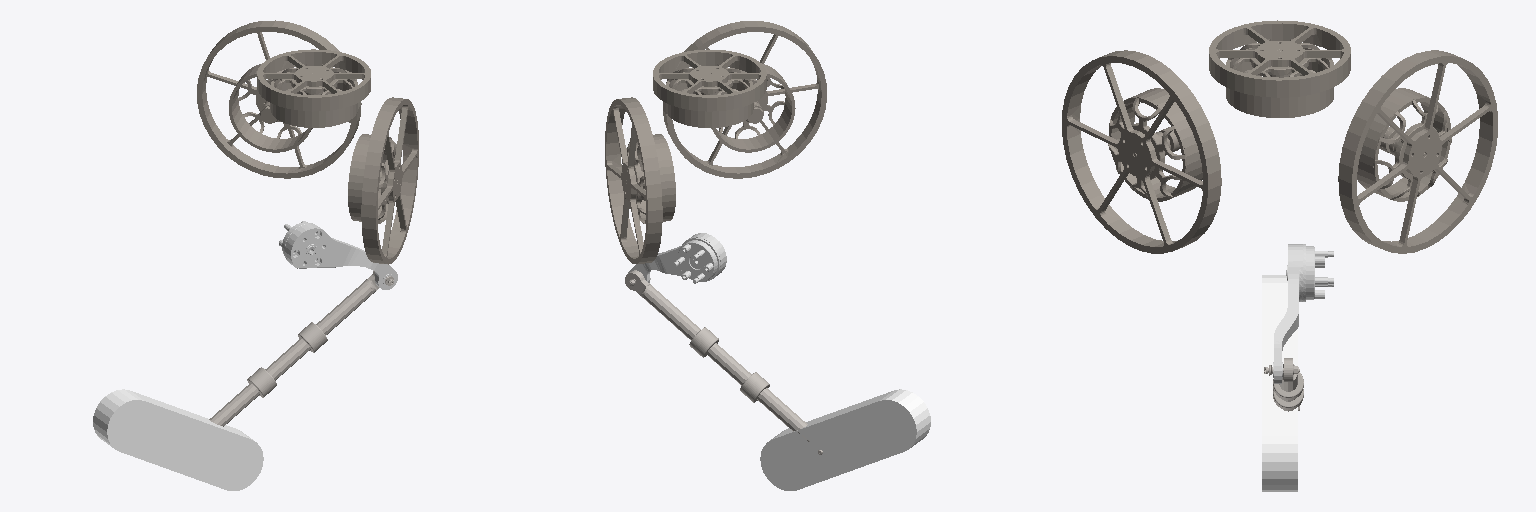
URDF robot description (flyhopper_rwz):
<?xml version="1.0" encoding="utf-8"?>
<!-- This URDF was automatically created by SolidWorks to URDF Exporter! Originally created by [author] ([email redacted]) 
     Commit Version: 1.5.1-0-g916b5db  Build Version: 1.5.7152.31018
     For more information, please see http://wiki.ros.org/sw_urdf_exporter -->
<robot
  name="flyhopper_rwz">
  <link
    name="base_link">
    <inertial>
      <origin
        xyz="0.00277970763371113 3.21133771858963E-06 0.0516178695133309"
        rpy="0 0 0" />
      <mass
        value="3.45555122752423" />
      <inertia
        ixx="0.00391232575184665"
        ixy="5.23017215894428E-06"
        ixz="3.91531787259724E-05"
        iyy="0.00474659484796222"
        iyz="-1.38986266493543E-07"
        izz="0.00416410479019696" />
    </inertial>
    <visual>
      <origin
        xyz="0 0 0"
        rpy="0 0 0" />
      <geometry>
        <mesh
          filename="package://flyhopper_rwz/meshes/base_link.STL" />
      </geometry>
      <material
        name="">
        <color
          rgba="0.898039215686275 0.898039215686275 0.898039215686275 1" />
      </material>
    </visual>
    <collision>
      <origin
        xyz="0 0 0"
        rpy="0 0 0" />
      <geometry>
        <mesh
          filename="package://flyhopper_rwz/meshes/base_link.STL" />
      </geometry>
    </collision>
  </link>
  <link
    name="Link 0">
    <inertial>
      <origin
        xyz="0.0127529127378812 0.0182883338723075 0.0011794212498648"
        rpy="0 0 0" />
      <mass
        value="0.244971488284729" />
      <inertia
        ixx="3.80451758513438E-05"
        ixy="1.53797221812804E-05"
        ixz="-8.48318992165916E-06"
        iyy="0.000172566032890378"
        iyz="1.08265731436023E-06"
        izz="0.000148402602231607" />
    </inertial>
    <visual>
      <origin
        xyz="0 0 0"
        rpy="0 0 0" />
      <geometry>
        <mesh
          filename="package://flyhopper_rwz/meshes/Link 0.STL" />
      </geometry>
      <material
        name="">
        <color
          rgba="0.898039215686275 0.898039215686275 0.898039215686275 1" />
      </material>
    </visual>
    <collision>
      <origin
        xyz="0 0 0"
        rpy="0 0 0" />
      <geometry>
        <mesh
          filename="package://flyhopper_rwz/meshes/Link 0.STL" />
      </geometry>
    </collision>
  </link>
  <joint
    name="Joint 0"
    type="revolute">
    <origin
      xyz="0 0 0"
      rpy="0 0.5236 0" />
    <parent
      link="base_link" />
    <child
      link="Link 0" />
    <axis
      xyz="0 -1 0" />
    <limit
      lower="-3.14"
      upper="3.14"
      effort="0"
      velocity="0" />
  </joint>
  <link
    name="Link 1">
    <inertial>
      <origin
        xyz="0.133412270784766 0.00656091735650182 -1.77815701052353E-09"
        rpy="0 0 0" />
      <mass
        value="0.0630003554418502" />
      <inertia
        ixx="2.55500637433954E-06"
        ixy="6.97717873028574E-12"
        ixz="-1.43600174617942E-12"
        iyy="0.000104300956150293"
        iyz="7.22908165182594E-12"
        izz="0.000104300640234885" />
    </inertial>
    <visual>
      <origin
        xyz="0 0 0"
        rpy="0 0 0" />
      <geometry>
        <mesh
          filename="package://flyhopper_rwz/meshes/Link 1.STL" />
      </geometry>
      <material
        name="">
        <color
          rgba="0.776470588235294 0.756862745098039 0.737254901960784 1" />
      </material>
    </visual>
    <collision>
      <origin
        xyz="0 0 0"
        rpy="0 0 0" />
      <geometry>
        <mesh
          filename="package://flyhopper_rwz/meshes/Link 1.STL" />
      </geometry>
    </collision>
  </link>
  <joint
    name="Joint 1"
    type="revolute">
    <origin
      xyz="0.1 0 0"
      rpy="3.1416 1.0768 3.1416" />
    <parent
      link="Link 0" />
    <child
      link="Link 1" />
    <axis
      xyz="0 -1 0" />
    <limit
      lower="-0.7597"
      upper="1.8295"
      effort="0"
      velocity="0" />
  </joint>
  <link
    name="Link 2">
    <inertial>
      <origin
        xyz="0.0415536743705373 -0.0171272776699121 -0.000857911925556985"
        rpy="0 0 0" />
      <mass
        value="0.272297640488147" />
      <inertia
        ixx="3.39637179166542E-05"
        ixy="-3.26027260981698E-07"
        ixz="5.24928685485485E-06"
        iyy="0.000245491496487658"
        iyz="3.02002424391176E-08"
        izz="0.000225991263249728" />
    </inertial>
    <visual>
      <origin
        xyz="0 0 0"
        rpy="0 0 0" />
      <geometry>
        <mesh
          filename="package://flyhopper_rwz/meshes/Link 2.STL" />
      </geometry>
      <material
        name="">
        <color
          rgba="0.898039215686275 0.898039215686275 0.898039215686275 1" />
      </material>
    </visual>
    <collision>
      <origin
        xyz="0 0 0"
        rpy="0 0 0" />
      <geometry>
        <mesh
          filename="package://flyhopper_rwz/meshes/Link 2.STL" />
      </geometry>
    </collision>
  </link>
  <joint
    name="Joint 2"
    type="revolute">
    <origin
      xyz="0 0 0"
      rpy="3.1416 0.55323 3.1416" />
    <parent
      link="base_link" />
    <child
      link="Link 2" />
    <axis
      xyz="0 -1 0" />
    <limit
      lower="-3.14"
      upper="3.14"
      effort="0"
      velocity="0" />
  </joint>
  <link
    name="Link 3">
    <inertial>
      <origin
        xyz="0.0993974163045883 -0.00255323603820135 -0.0147624615939491"
        rpy="0 0 0" />
      <mass
        value="0.122877254119564" />
      <inertia
        ixx="1.60575994345428E-05"
        ixy="-5.5656256839282E-07"
        ixz="1.00362368328808E-06"
        iyy="0.000116477053909514"
        iyz="1.07119069997268E-07"
        izz="0.0001129178602649" />
    </inertial>
    <visual>
      <origin
        xyz="0 0 0"
        rpy="0 0 0" />
      <geometry>
        <mesh
          filename="package://flyhopper_rwz/meshes/Link 3.STL" />
      </geometry>
      <material
        name="">
        <color
          rgba="1 1 1 1" />
      </material>
    </visual>
    <collision>
      <origin
        xyz="0 0 0"
        rpy="0 0 0" />
      <geometry>
        <mesh
          filename="package://flyhopper_rwz/meshes/Link 3.STL" />
      </geometry>
    </collision>
  </link>
  <joint
    name="Joint 3"
    type="revolute">
    <origin
      xyz="0.27 0 0"
      rpy="-3.1416 -1.0768 3.1416" />
    <parent
      link="Link 2" />
    <child
      link="Link 3" />
    <axis
      xyz="0 -1 0" />
    <limit
      lower="-1.8295"
      upper="0.7597"
      effort="0"
      velocity="0" />
  </joint>
  <link
    name="rw0">
    <inertial>
      <origin
        xyz="-0.0123550255538276 -6.93889390390723E-17 -4.16333634234434E-17"
        rpy="0 0 0" />
      <mass
        value="0.671107704114979" />
      <inertia
        ixx="0.00298576361315608"
        ixy="6.50521303491303E-19"
        ixz="2.71050543121376E-20"
        iyy="0.00151637106761904"
        iyz="-1.19059222116608E-14"
        izz="0.00151637106761857" />
    </inertial>
    <visual>
      <origin
        xyz="0 0 0"
        rpy="0 0 0" />
      <geometry>
        <mesh
          filename="package://flyhopper_rwz/meshes/rw0.STL" />
      </geometry>
      <material
        name="">
        <color
          rgba="0.647058823529412 0.619607843137255 0.588235294117647 1" />
      </material>
    </visual>
    <collision>
      <origin
        xyz="0 0 0"
        rpy="0 0 0" />
      <geometry>
        <mesh
          filename="package://flyhopper_rwz/meshes/rw0.STL" />
      </geometry>
    </collision>
  </link>
  <joint
    name="joint_rw0"
    type="continuous">
    <origin
      xyz="0.0304055915910213 -0.122329473145273 0.124"
      rpy="2.57078393563195 0 -0.785398163397449" />
    <parent
      link="base_link" />
    <child
      link="rw0" />
    <axis
      xyz="1 0 0" />
  </joint>
  <link
    name="rw1">
    <inertial>
      <origin
        xyz="-0.0123550252793554 3.81639164714898E-17 -2.77555756156289E-17"
        rpy="0 0 0" />
      <mass
        value="0.671107709074598" />
      <inertia
        ixx="0.00298576361560113"
        ixy="3.79470760369927E-19"
        ixz="4.74338450462408E-19"
        iyy="0.00151637106813014"
        iyz="1.18091842728207E-14"
        izz="0.00151637106813061" />
    </inertial>
    <visual>
      <origin
        xyz="0 0 0"
        rpy="0 0 0" />
      <geometry>
        <mesh
          filename="package://flyhopper_rwz/meshes/rw1.STL" />
      </geometry>
      <material
        name="">
        <color
          rgba="0.647058823529412 0.619607843137255 0.588235294117647 1" />
      </material>
    </visual>
    <collision>
      <origin
        xyz="0 0 0"
        rpy="0 0 0" />
      <geometry>
        <mesh
          filename="package://flyhopper_rwz/meshes/rw1.STL" />
      </geometry>
    </collision>
  </link>
  <joint
    name="joint_rw1"
    type="continuous">
    <origin
      xyz="0.0304055915910217 0.122329473145273 0.124"
      rpy="-0.303564166906278 0 0.785398163397446" />
    <parent
      link="base_link" />
    <child
      link="rw1" />
    <axis
      xyz="-1 0 0" />
  </joint>
  <link
    name="rwz">
    <inertial>
      <origin
        xyz="1.89077198692619E-17 -1.366983714898E-17 -0.0137351438260363"
        rpy="0 0 0" />
      <mass
        value="0.528430996906255" />
      <inertia
        ixx="0.000538883816157009"
        ixy="-1.31810864169335E-14"
        ixz="6.35506769697875E-20"
        iyy="0.00053888381615644"
        iyz="-2.51886527013438E-20"
        izz="0.00103704780061135" />
    </inertial>
    <visual>
      <origin
        xyz="0 0 0"
        rpy="0 0 0" />
      <geometry>
        <mesh
          filename="package://flyhopper_rwz/meshes/rwz.STL" />
      </geometry>
      <material
        name="">
        <color
          rgba="0.647058823529412 0.619607843137255 0.588235294117647 1" />
      </material>
    </visual>
    <collision>
      <origin
        xyz="0 0 0"
        rpy="0 0 0" />
      <geometry>
        <mesh
          filename="package://flyhopper_rwz/meshes/rwz.STL" />
      </geometry>
    </collision>
  </link>
  <joint
    name="joint_rwz"
    type="continuous">
    <origin
      xyz="0 0 0.207"
      rpy="0 0 -1.5708" />
    <parent
      link="base_link" />
    <child
      link="rwz" />
    <axis
      xyz="0 0 1" />
  </joint>
</robot>

--- Render facts (derived) ---
The picture shows the robot from 3 angles, left to right: view 1: azimuth 30°, elevation 25°; view 2: azimuth 150°, elevation 25°; view 3: azimuth 270°, elevation 25°; orthographic projection.
Model flyhopper_rwz with 8 links and 7 joints (4 revolute, 3 continuous), rooted at base_link, posed every joint at zero.
Links seen in each view (by area): view 1: Link 3, rw0, rwz, rw1, Link 1, Link 0; view 2: Link 3, rw1, rw0, rwz, Link 1, Link 0; view 3: rw0, rw1, rwz, Link 3, Link 0, Link 1.
Link boxes in pixels (x1,y1,x2,y2): Link 3: [93, 389, 263, 490]; rw0: [348, 97, 418, 264]; rwz: [257, 49, 370, 127]; rw1: [197, 20, 361, 178]; Link 1: [209, 271, 393, 426]; Link 0: [279, 221, 397, 289]; Link 3: [760, 389, 930, 490]; rw1: [605, 97, 675, 263]; rw0: [663, 21, 826, 178]; rwz: [653, 50, 766, 127]; Link 1: [625, 270, 822, 454]; Link 0: [628, 233, 726, 283]; rw0: [1062, 50, 1221, 253]; rw1: [1338, 50, 1497, 253]; rwz: [1209, 20, 1350, 117]; Link 3: [1262, 275, 1297, 491]; Link 0: [1273, 244, 1333, 383]; Link 1: [1264, 358, 1303, 411].
Size in the robot's own frame: 0.3583 by 0.3683 by 0.4584 metres.
Meshes: 8 distinct files referenced, 6 mesh visuals loaded (6 binary STL); not drawn: 2 (reference not matched to a file when rendering).